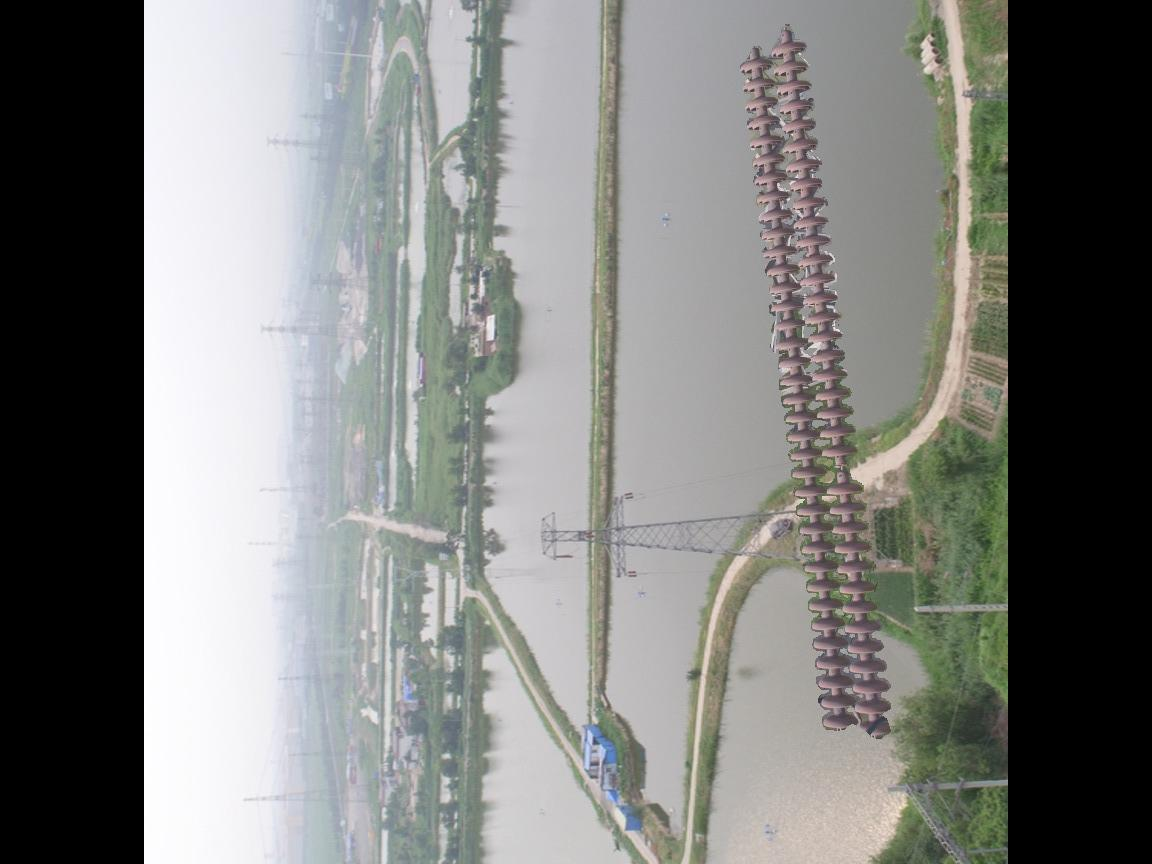insulator: (733, 26, 898, 746)
insulator_stringdrop: (817, 444, 867, 500)
